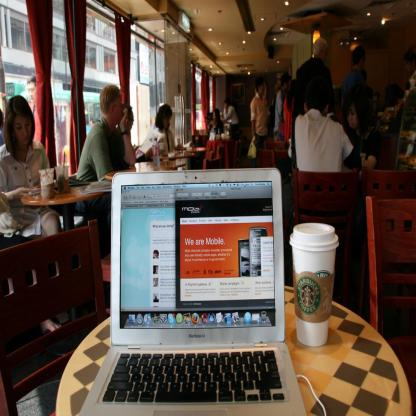board: (79, 168, 308, 416), (288, 224, 340, 350), (152, 137, 160, 170)
